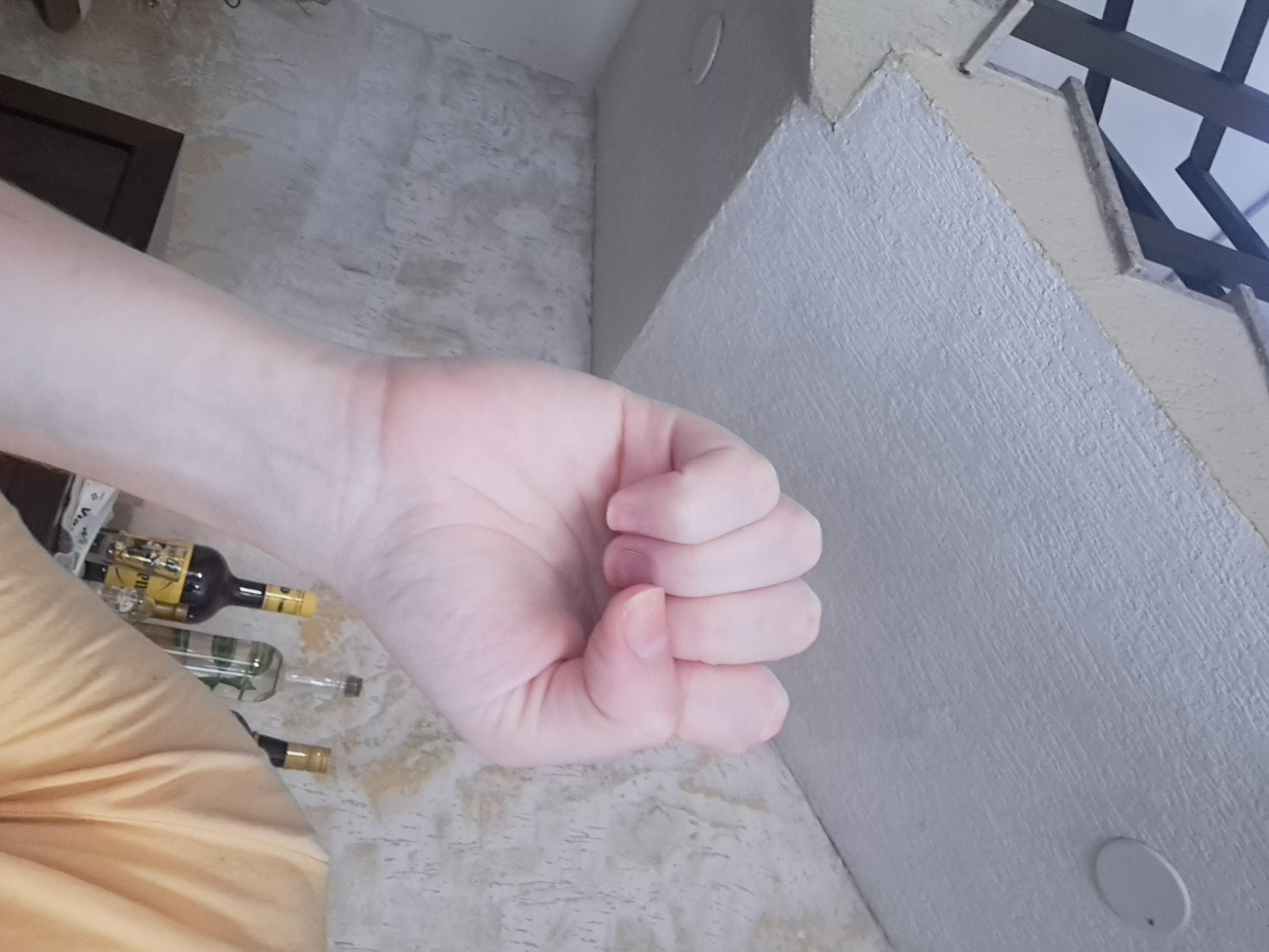S: (446, 312, 1063, 697)
